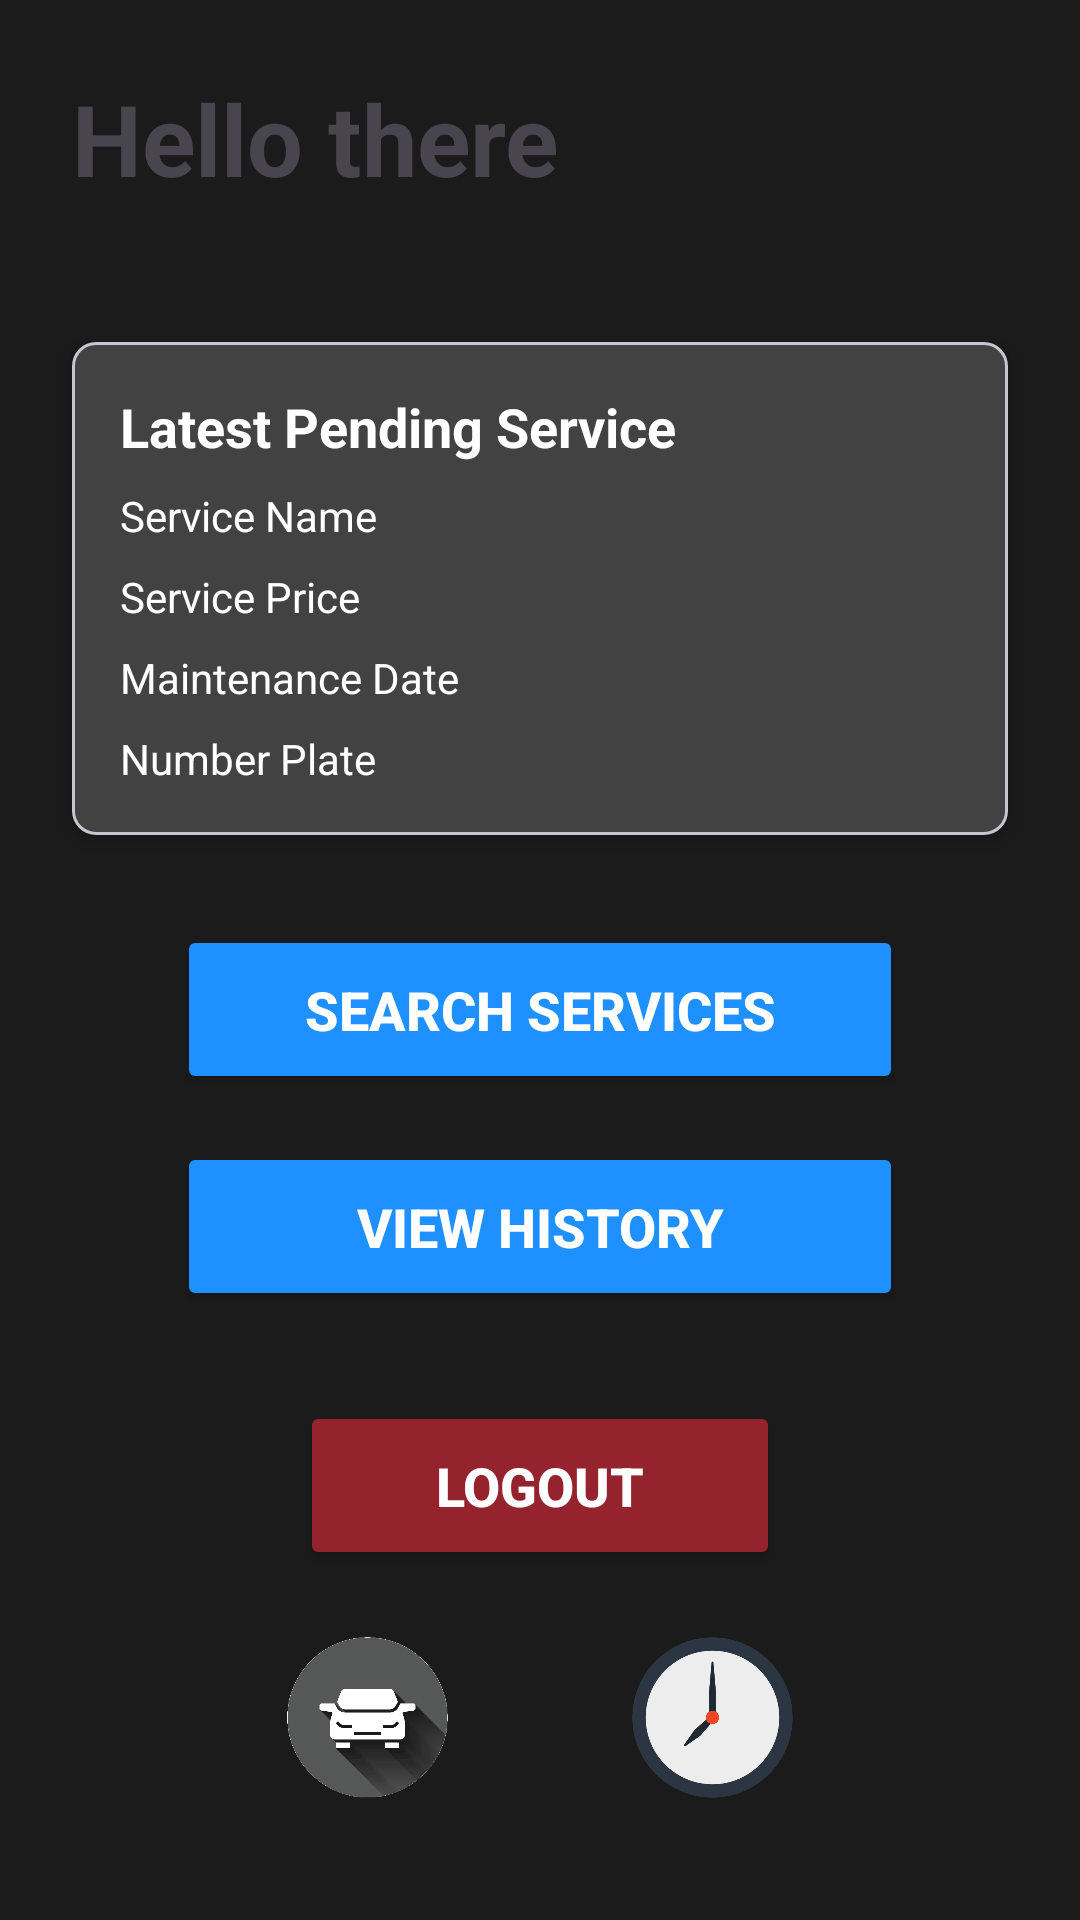

Named icons in this screenshot (1080px x 1920px) and their bounding boxes, rect(x1, y1, x2, y2):
View Pending Services: rect(632, 1637, 793, 1798)
View Vehicles: rect(287, 1637, 448, 1797)
